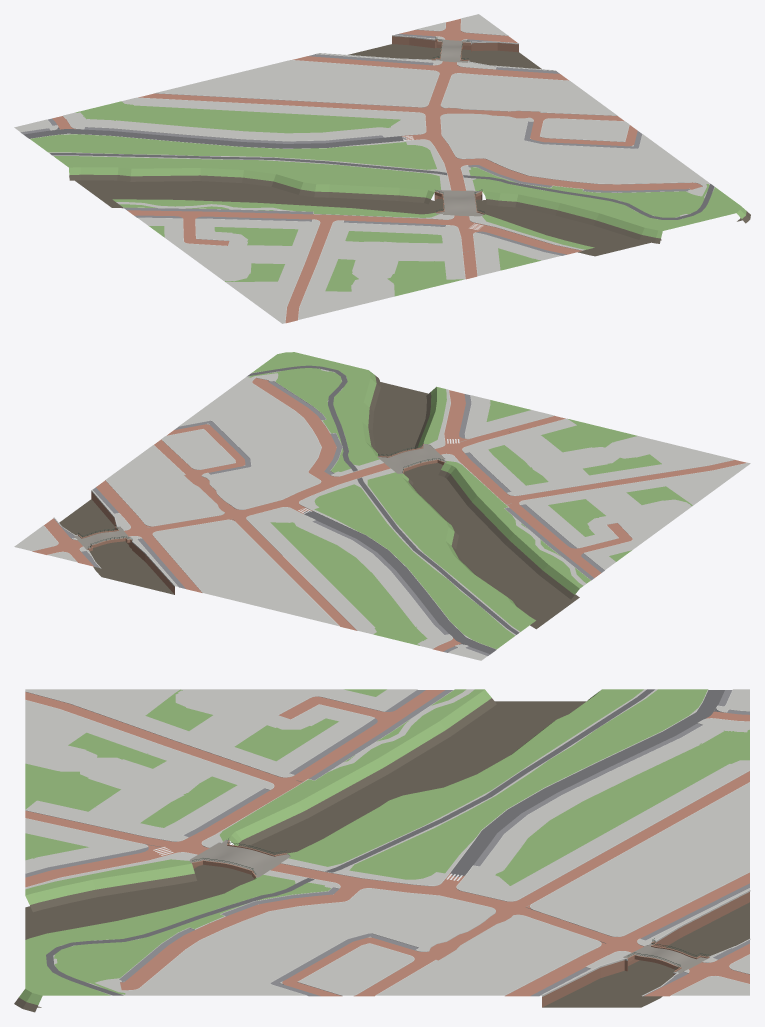
The model's file is ground_8_11.glb.
The picture shows the model from 3 angles, top to bottom: view 1: azimuth 30°, elevation 25°; view 2: azimuth 150°, elevation 25°; view 3: azimuth 270°, elevation 25°; orthographic projection. The views are drawn at different scales.
Visible parts, largest first — view 1: ground_8_11; view 2: ground_8_11; view 3: ground_8_11.
Part boxes in pixels (x1=…): ground_8_11: x1=14, y1=14, x2=750, y2=323; ground_8_11: x1=14, y1=352, x2=750, y2=660; ground_8_11: x1=14, y1=689, x2=750, y2=1012.
Bounding box in the file's own units: 205 × 5.2 × 203.
